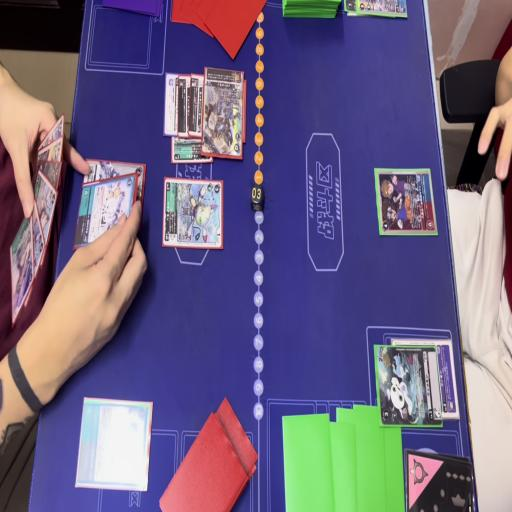card: (76, 398, 152, 498), (372, 339, 444, 430), (70, 172, 141, 248), (375, 167, 441, 242), (162, 180, 222, 248), (202, 64, 242, 161), (83, 156, 146, 210), (10, 211, 34, 322), (30, 172, 60, 248), (434, 342, 461, 420), (167, 132, 213, 168), (28, 194, 44, 278), (36, 114, 66, 154), (162, 72, 180, 138), (176, 75, 192, 141), (188, 74, 203, 142), (34, 160, 64, 187), (359, 0, 407, 16), (36, 139, 64, 165), (346, 0, 361, 18)
